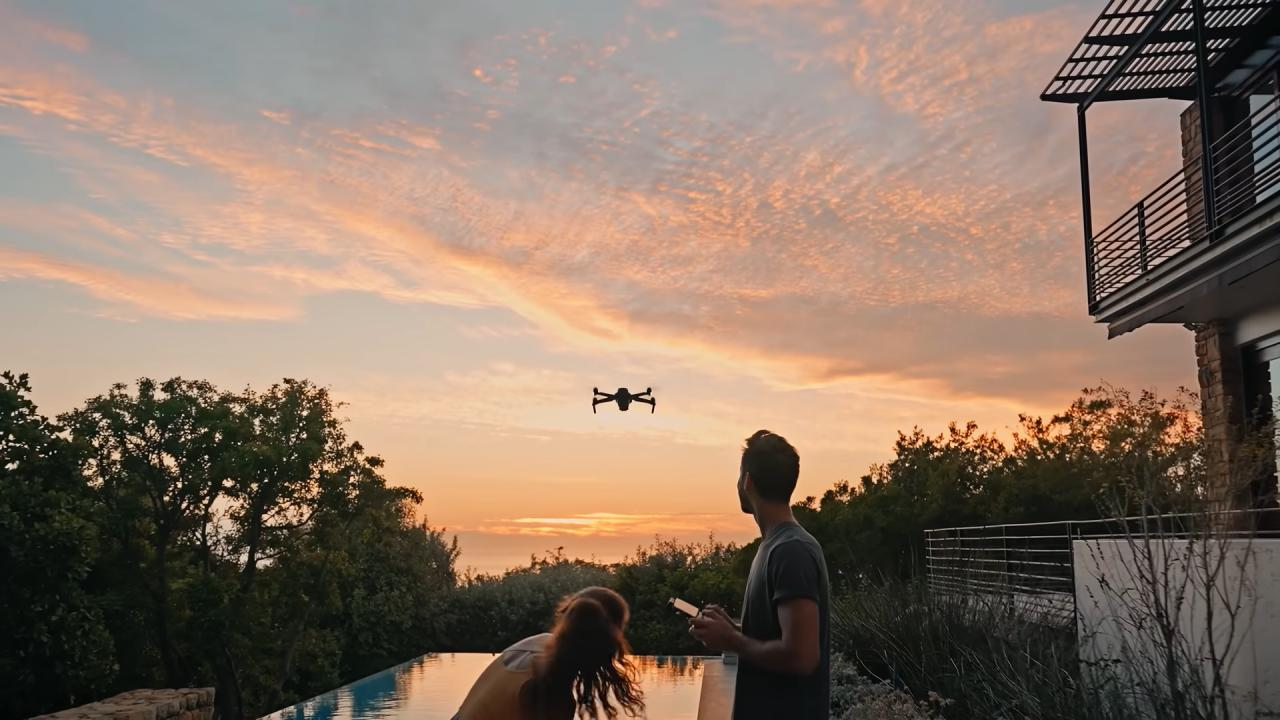Drone: (583, 376, 666, 423)
